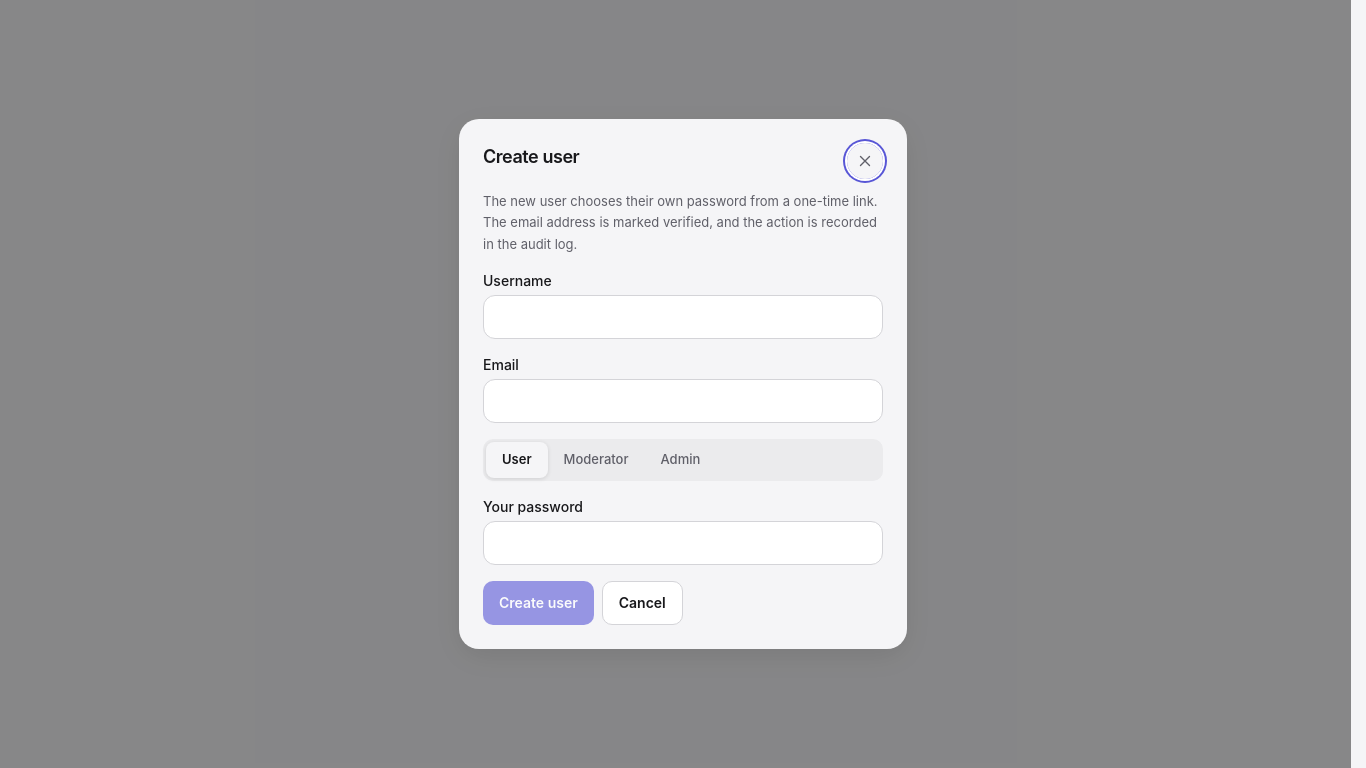
it: CreateUserDialog › shows the backend error and keeps the form for another try
This screenshot has width=1366, height=768.
Type "nina" into the field labelled "Username" at (683, 317), box top-left (483, 295), bottom-right (883, 339)
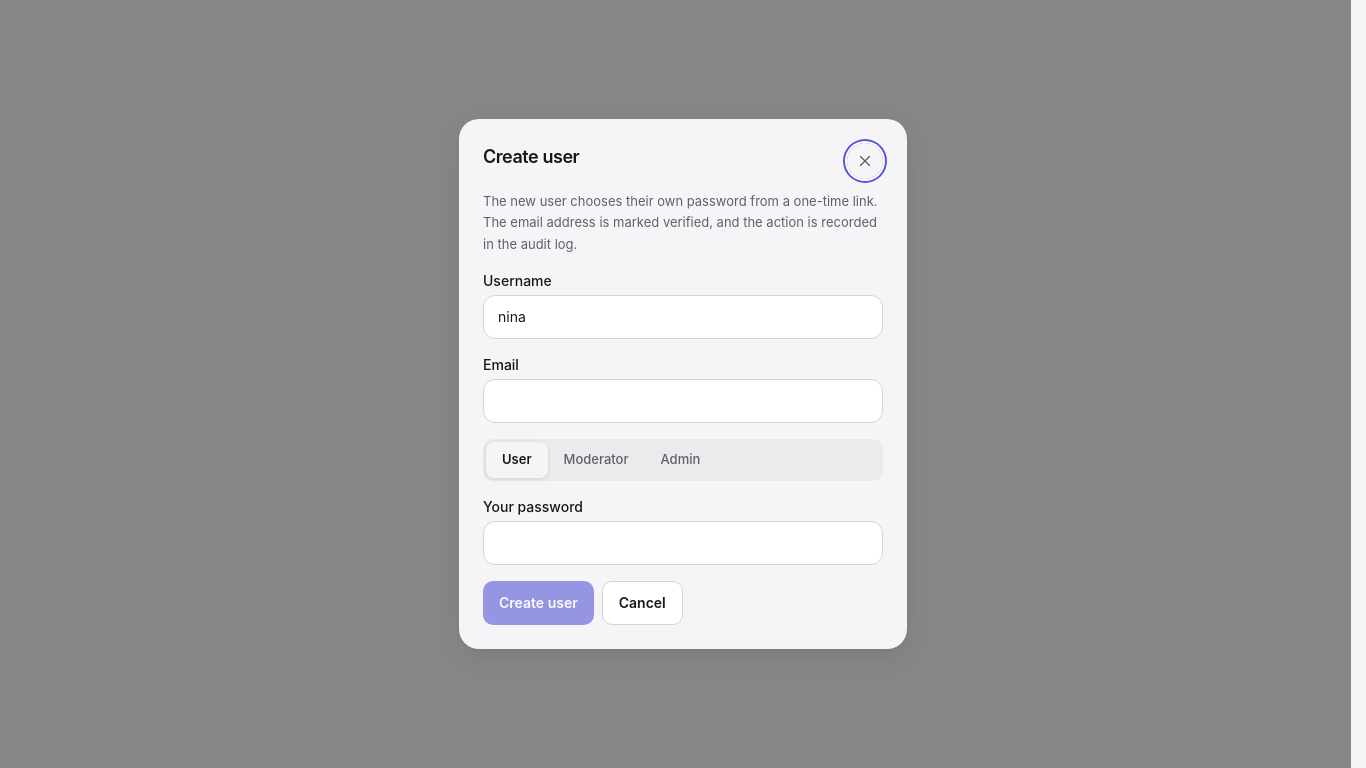
Type "nina@example.test" into the field labelled "Email" at (683, 401), box top-left (483, 379), bottom-right (883, 423)
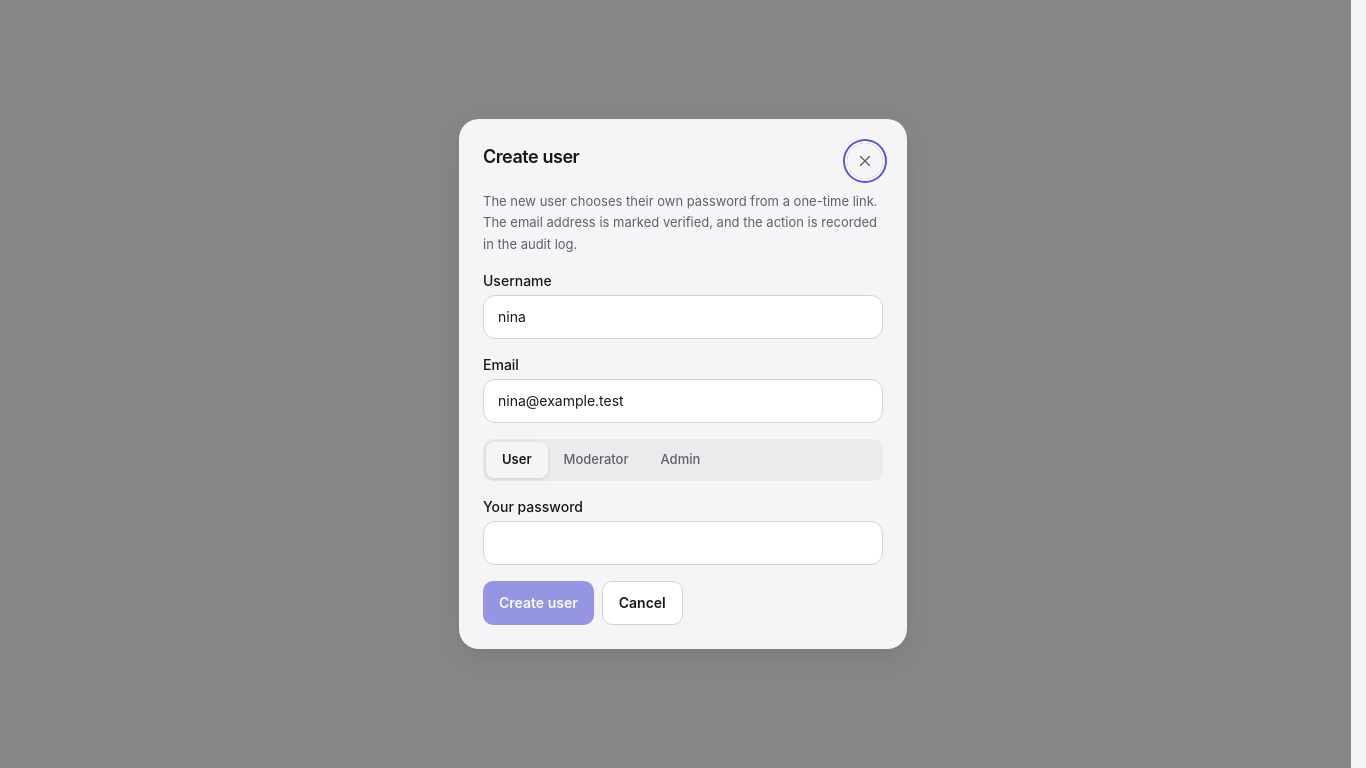
Click the button "Moderator" at (596, 460), box top-left (548, 442), bottom-right (644, 478)
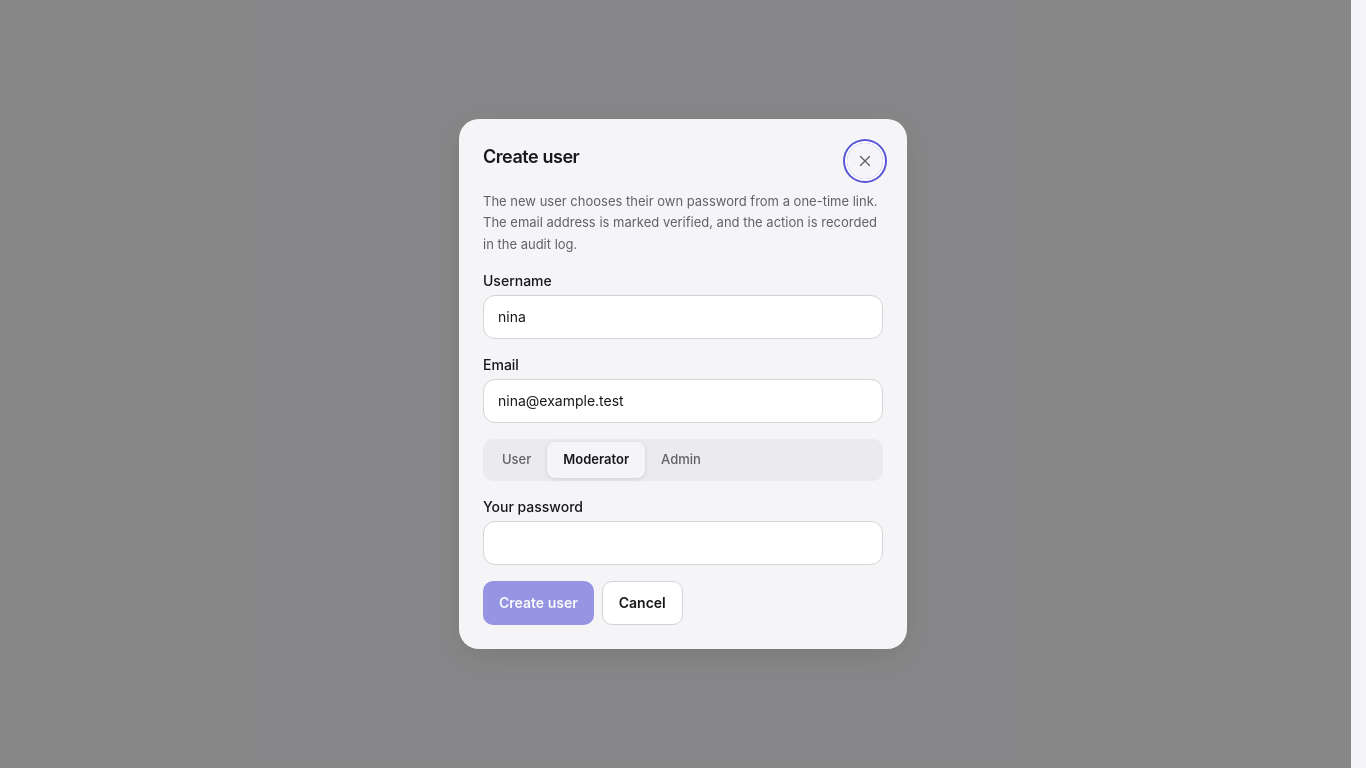
Type "fixture-typed-value" into the password field labelled "Your password" at (683, 543), box top-left (483, 521), bottom-right (883, 565)
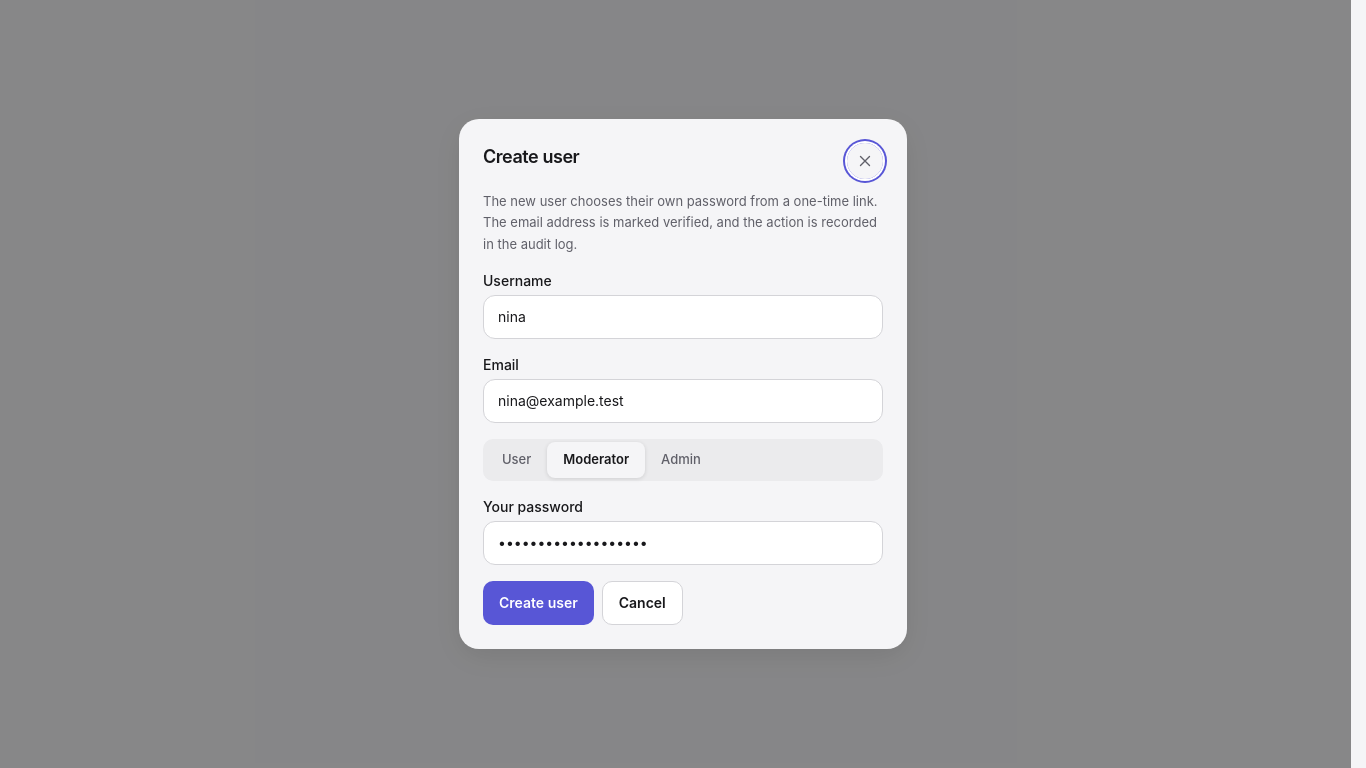
Click the button "Create user" at (538, 603), box top-left (483, 581), bottom-right (594, 625)
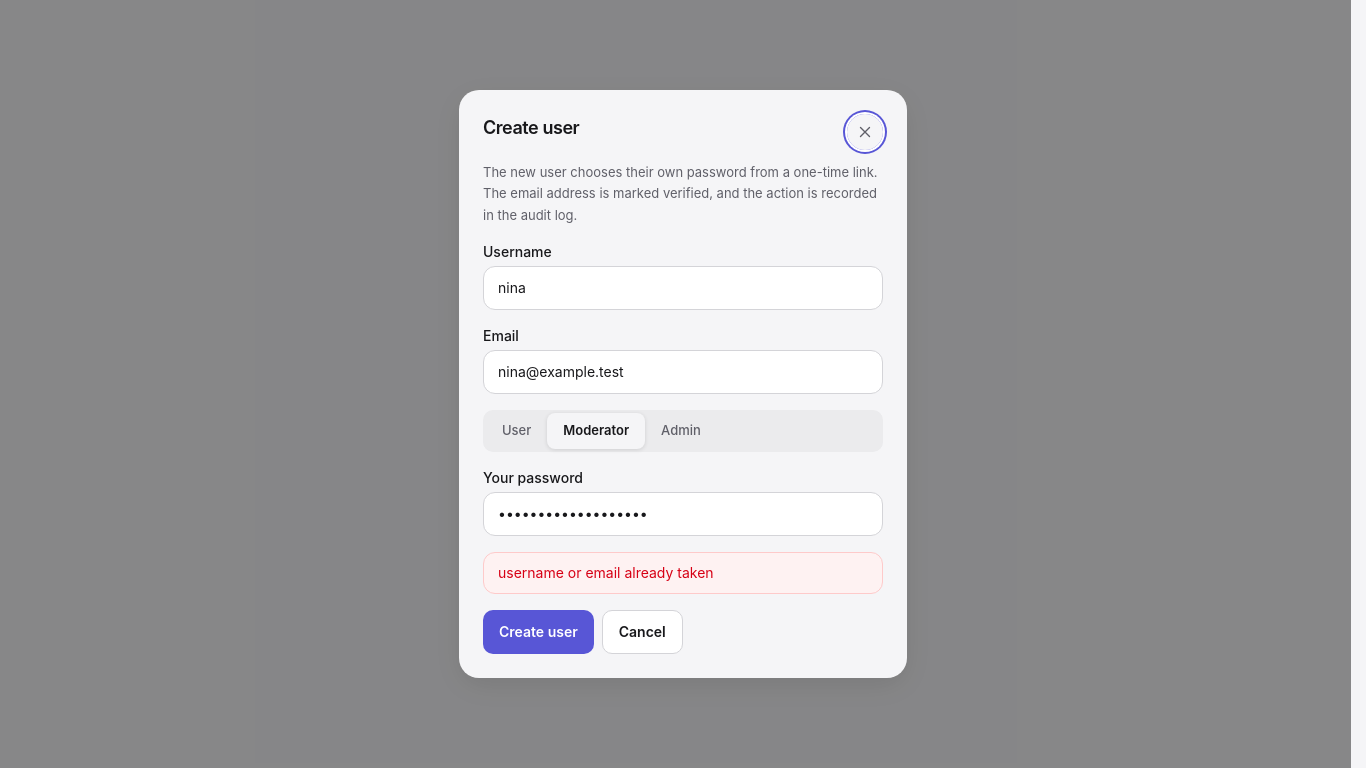
Expected: the button "Create user" is shown, top-left (483, 610), bottom-right (594, 654)
Expected: the message shows "already taken", top-left (498, 564), bottom-right (714, 581)
